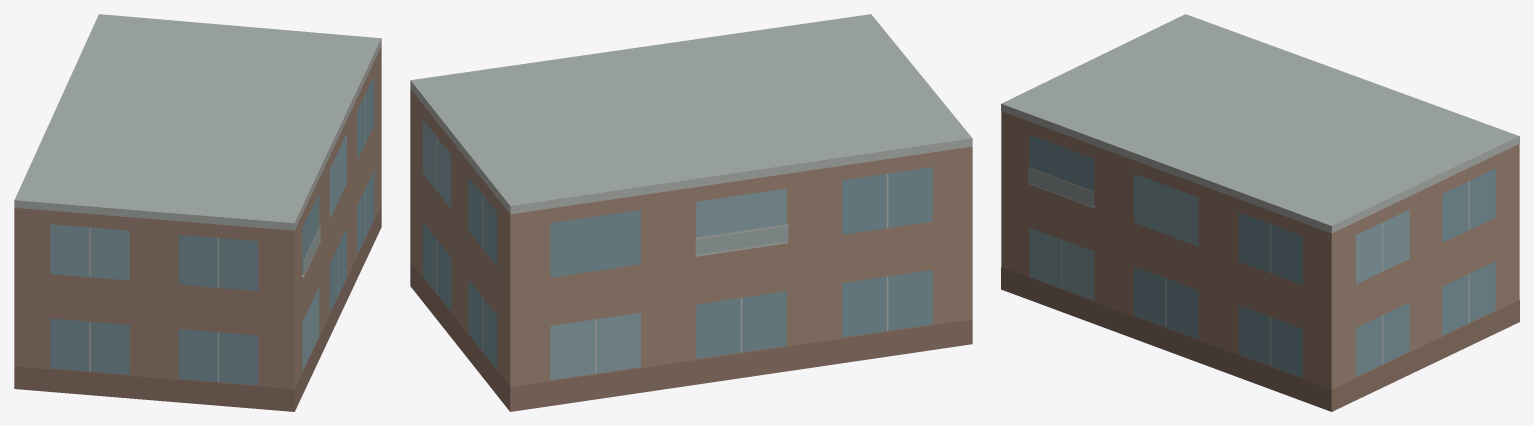
Rendered from survey-upis-32885610.glb.
3 renders of one model, left to right at view 1: azimuth 30°, elevation 25°; view 2: azimuth 150°, elevation 25°; view 3: azimuth 270°, elevation 25°, orthographic. The views are drawn at different scales.
Visible parts, largest first — view 1: survey-upis-32885610.tmp; view 2: survey-upis-32885610.tmp; view 3: survey-upis-32885610.tmp.
Boxes of the visible parts, left/top/right/bottom form: survey-upis-32885610.tmp: left=14, top=14, right=381, bottom=411; survey-upis-32885610.tmp: left=410, top=14, right=972, bottom=411; survey-upis-32885610.tmp: left=1001, top=14, right=1519, bottom=411.
Size of the model in its own units: 14.95 by 6.1 by 15.44.
